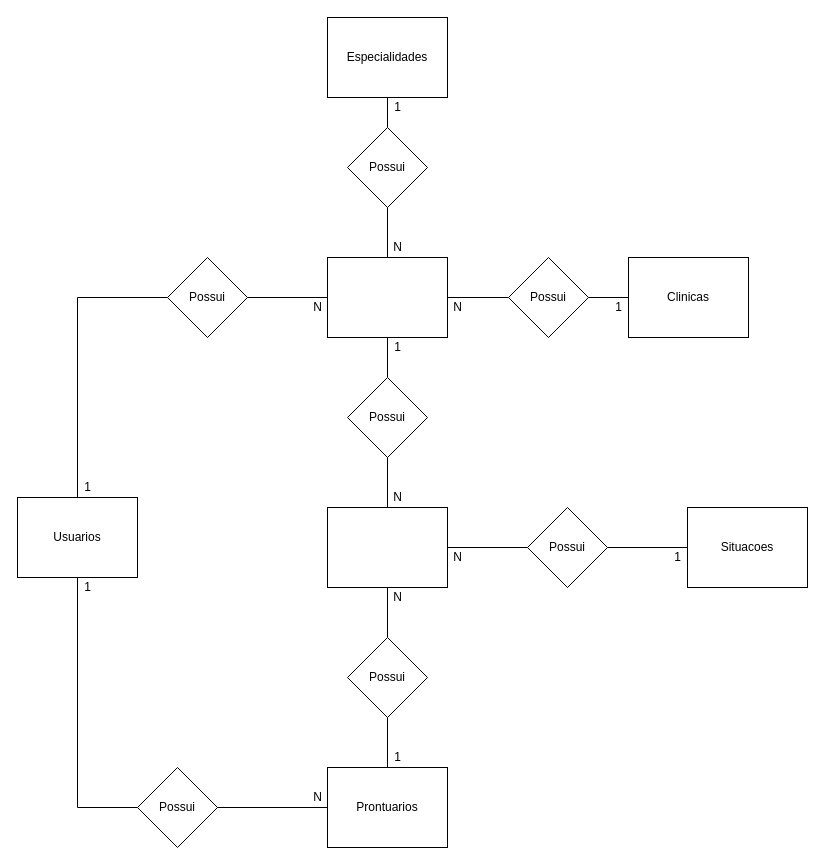
The diagram is 825 pixels wide and 865 high, and some of its shapes have lost their labels. The shapes that lost their labels are listed below. From the top down, each one's centre as x and y in pixels, then its label:
the point at 387,297: Médicos
the point at 387,547: Consultas
